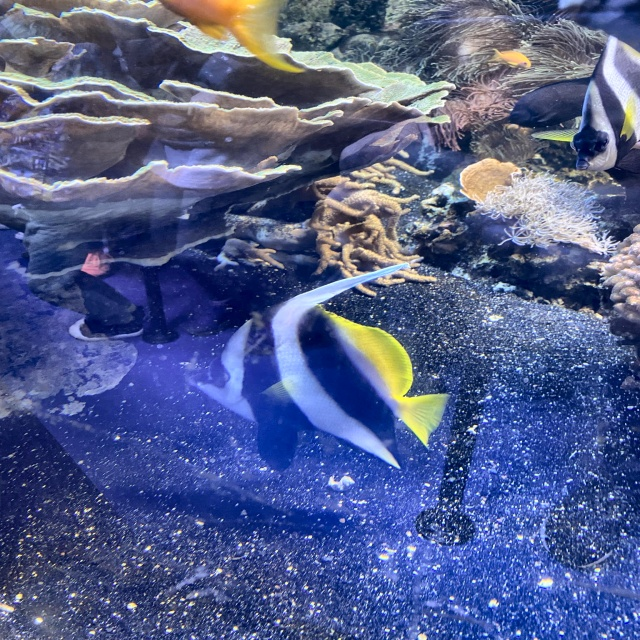fish: (190, 299, 449, 471), (530, 34, 639, 173)
